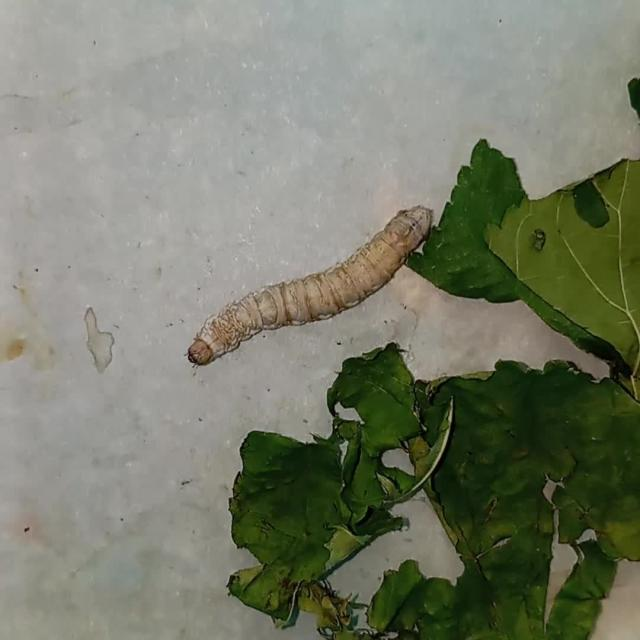Grasserie: (184, 185, 443, 368)
